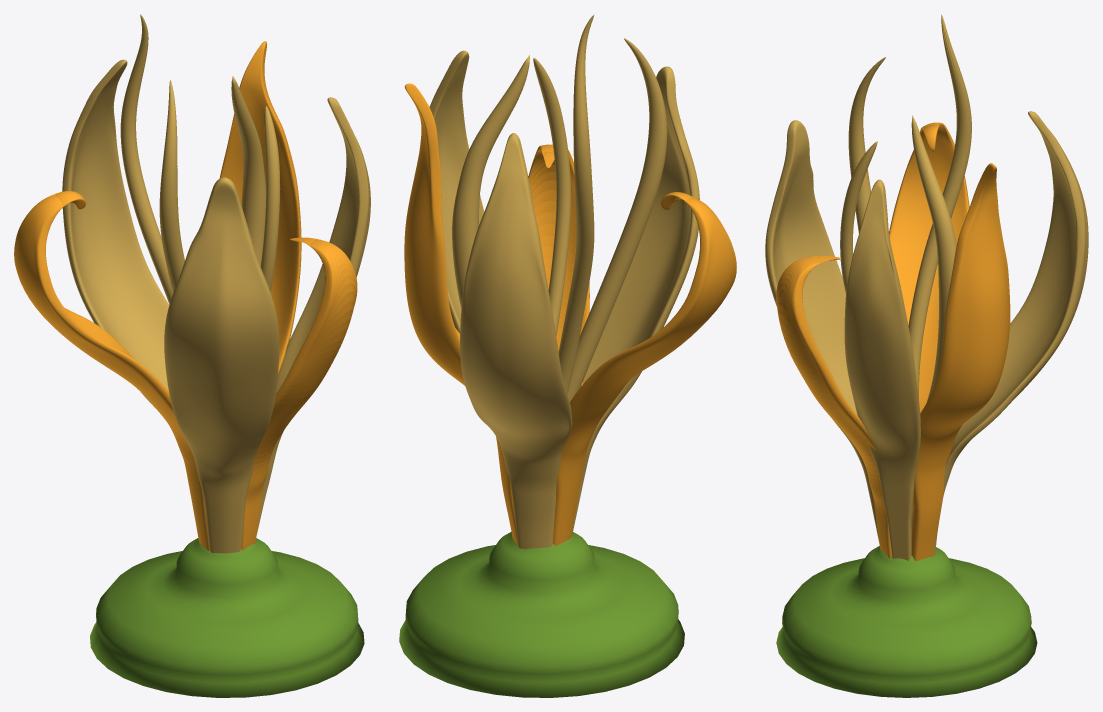
The model's file is fulua1.glb.
3 views of the same model, side by side, from view 1: azimuth 30°, elevation 25°; view 2: azimuth 150°, elevation 25°; view 3: azimuth 270°, elevation 25° (orthographic). The views are drawn at different scales.
Visible parts, largest first — view 1: 贝塞尔曲线.008, Circle.110, Circle.109; view 2: 贝塞尔曲线.008, Circle.110, Circle.109; view 3: 贝塞尔曲线.008, Circle.109, Circle.110.
Boxes of the visible parts, x1,y1,x2,y2 form: 贝塞尔曲线.008: (62, 14, 370, 553); Circle.110: (90, 538, 364, 697); Circle.109: (14, 41, 357, 550); 贝塞尔曲线.008: (429, 14, 699, 548); Circle.110: (399, 532, 684, 697); Circle.109: (404, 83, 736, 545); 贝塞尔曲线.008: (765, 14, 1088, 560); Circle.109: (776, 122, 1010, 561); Circle.110: (776, 546, 1037, 697).
Size of the model in its own units: 3.07 by 5.89 by 2.89.
